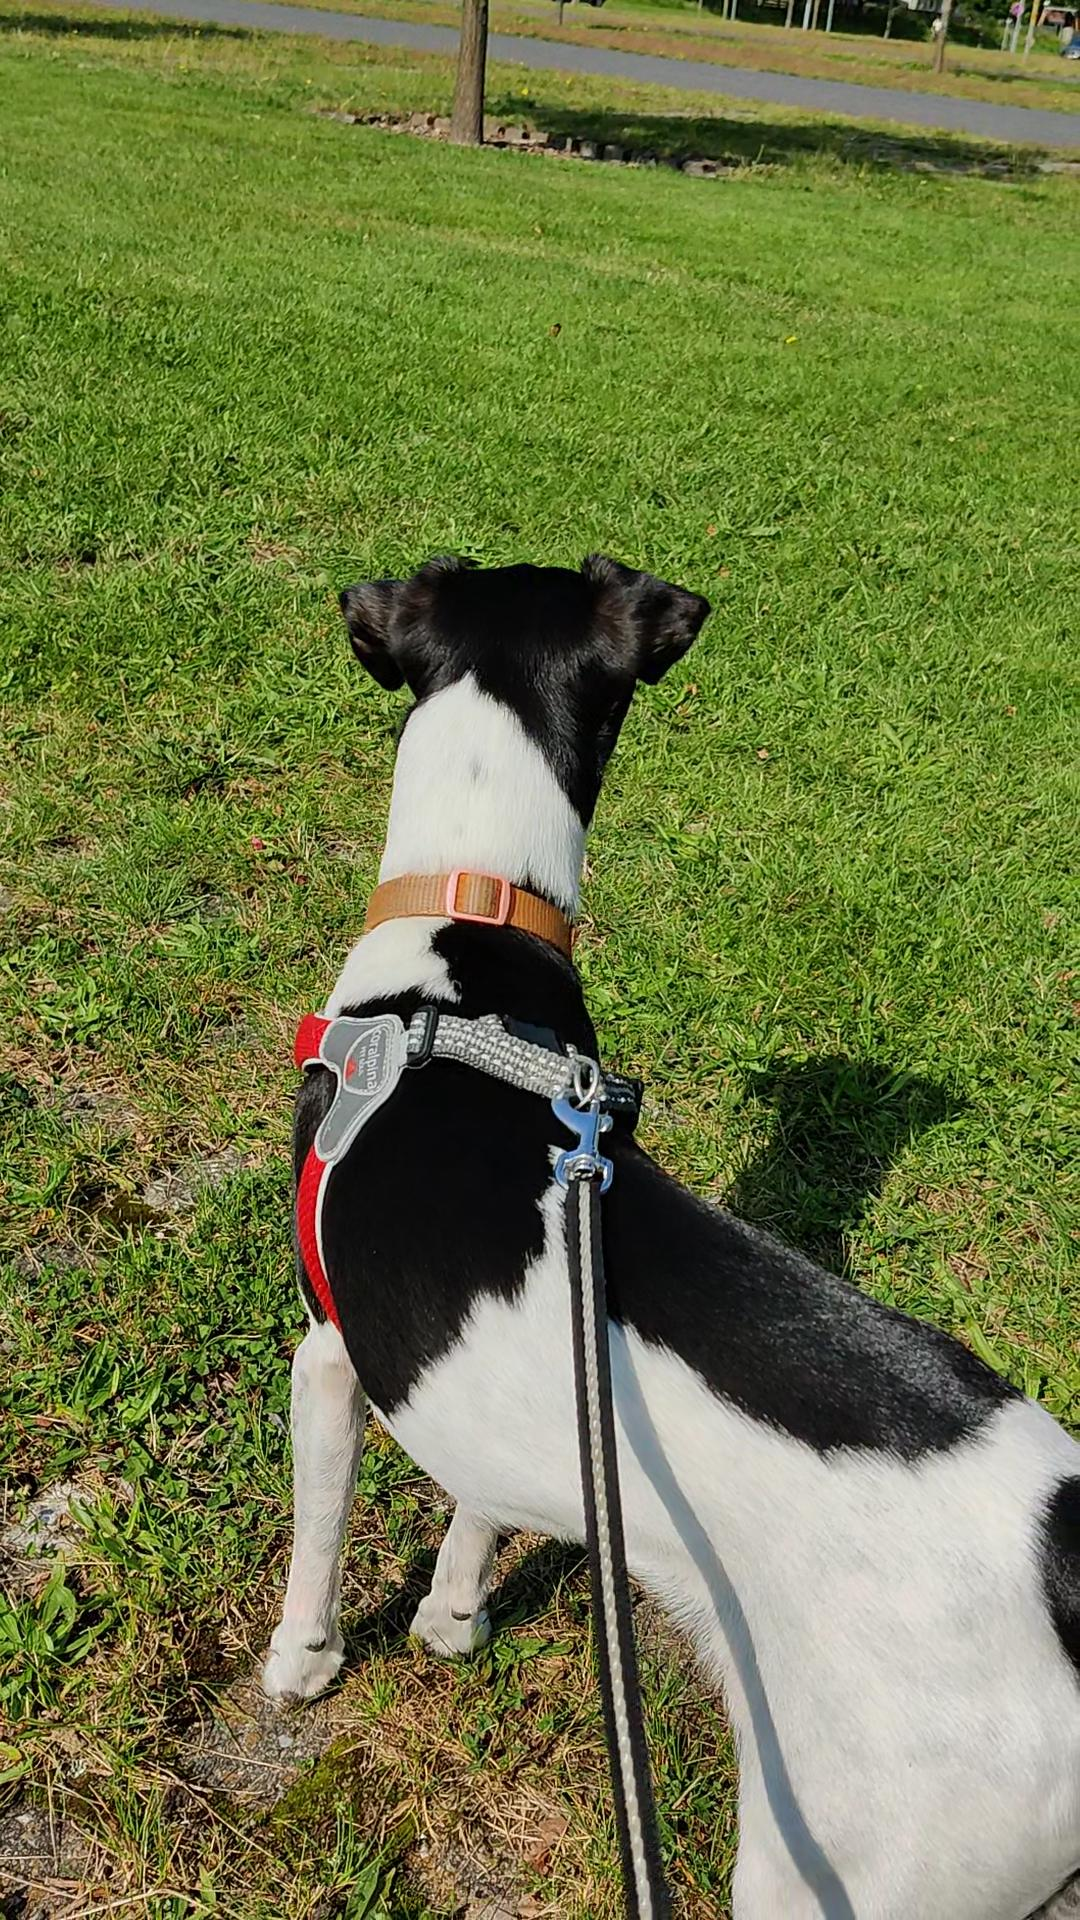Dog: (228, 516, 1079, 1919)
